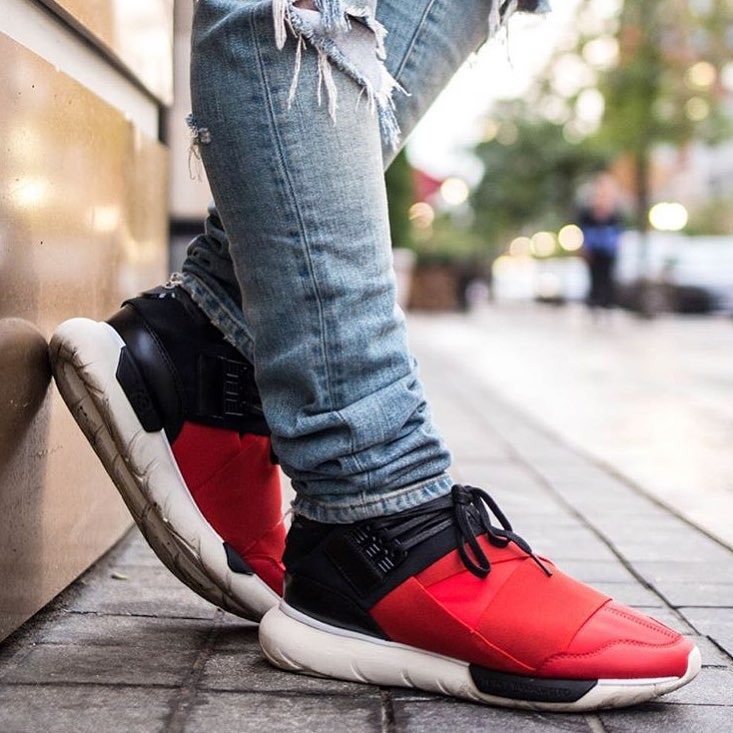sneaker: (226, 456, 733, 731), (23, 234, 313, 655)
